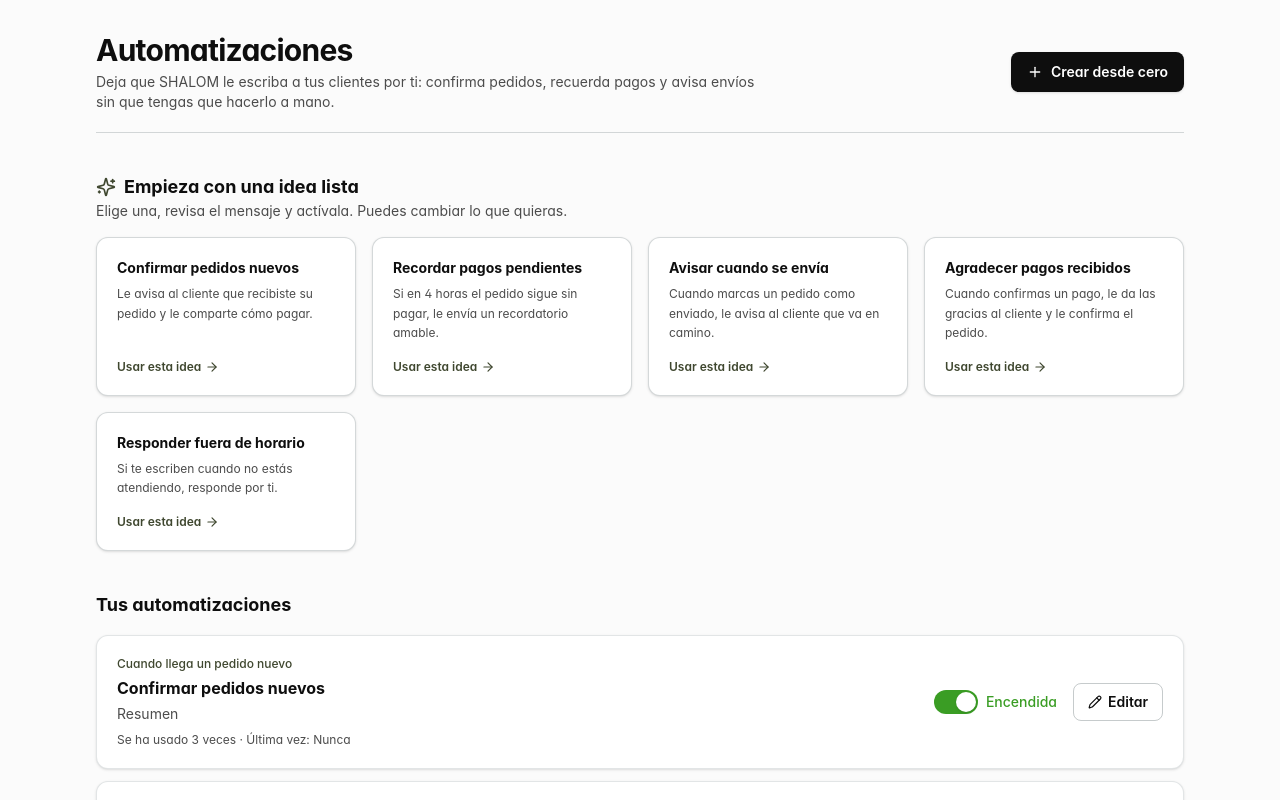
Test case: AutomationsPage › reverts the switch and explains the problem when the server rejects it
This screenshot has width=1280, height=800.
Click the switch named "Apagar \"Confirmar pedidos nuevos\"": {"x": 995, "y": 702} [934, 690, 1057, 714]
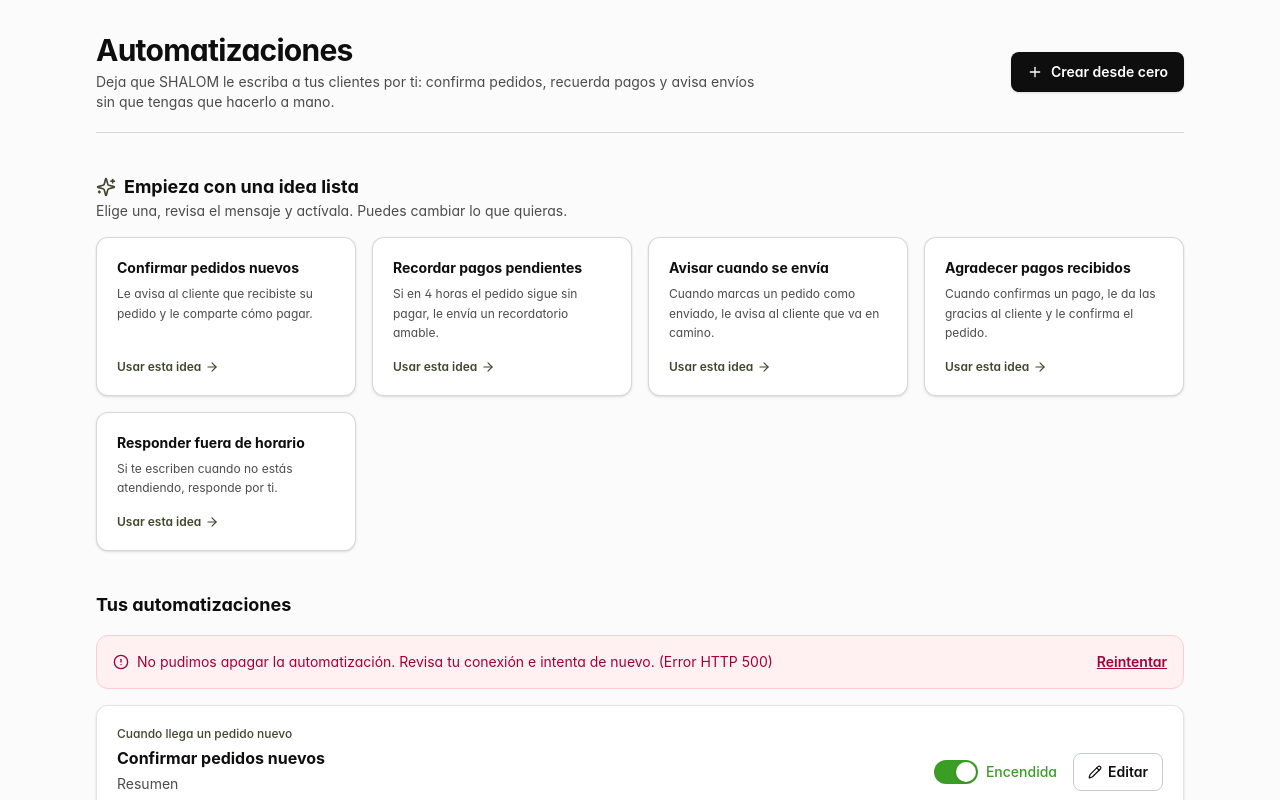
Result: the message shows "No pudimos apagar la automatización" at [137, 652, 773, 670]
